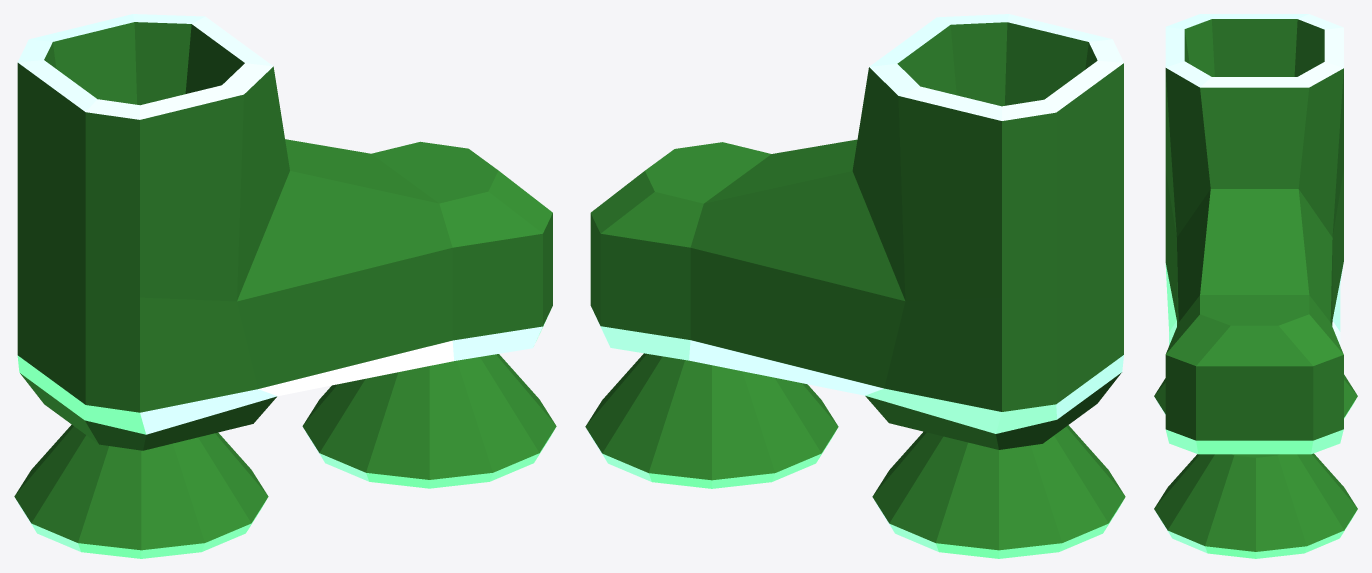
File: boot_suction.glb
3 renders of one model, left to right at view 1: azimuth 30°, elevation 25°; view 2: azimuth 150°, elevation 25°; view 3: azimuth 270°, elevation 25°, orthographic. The views are drawn at different scales.
Visible parts, largest first — view 1: Cylinder.001; view 2: Cylinder.001; view 3: Cylinder.001.
Boxes of the visible parts, bbox=[...] form: Cylinder.001: bbox=[14, 14, 556, 558]; Cylinder.001: bbox=[585, 14, 1125, 558]; Cylinder.001: bbox=[1154, 14, 1357, 558].
Bounding box in the file's own units: 1.23 × 1.03 × 0.5312.
Materials: 2 (1 with a texture image).
